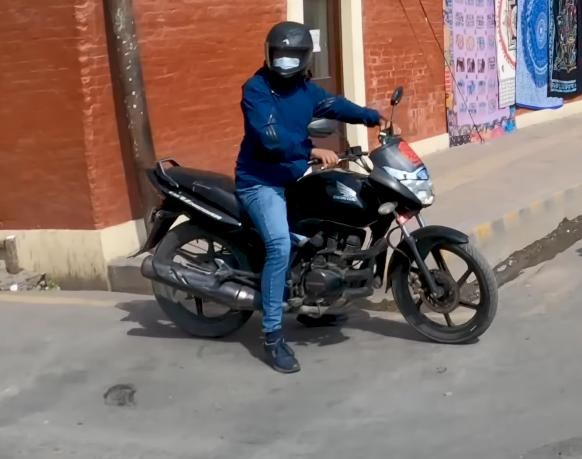bike: (137, 83, 503, 359)
